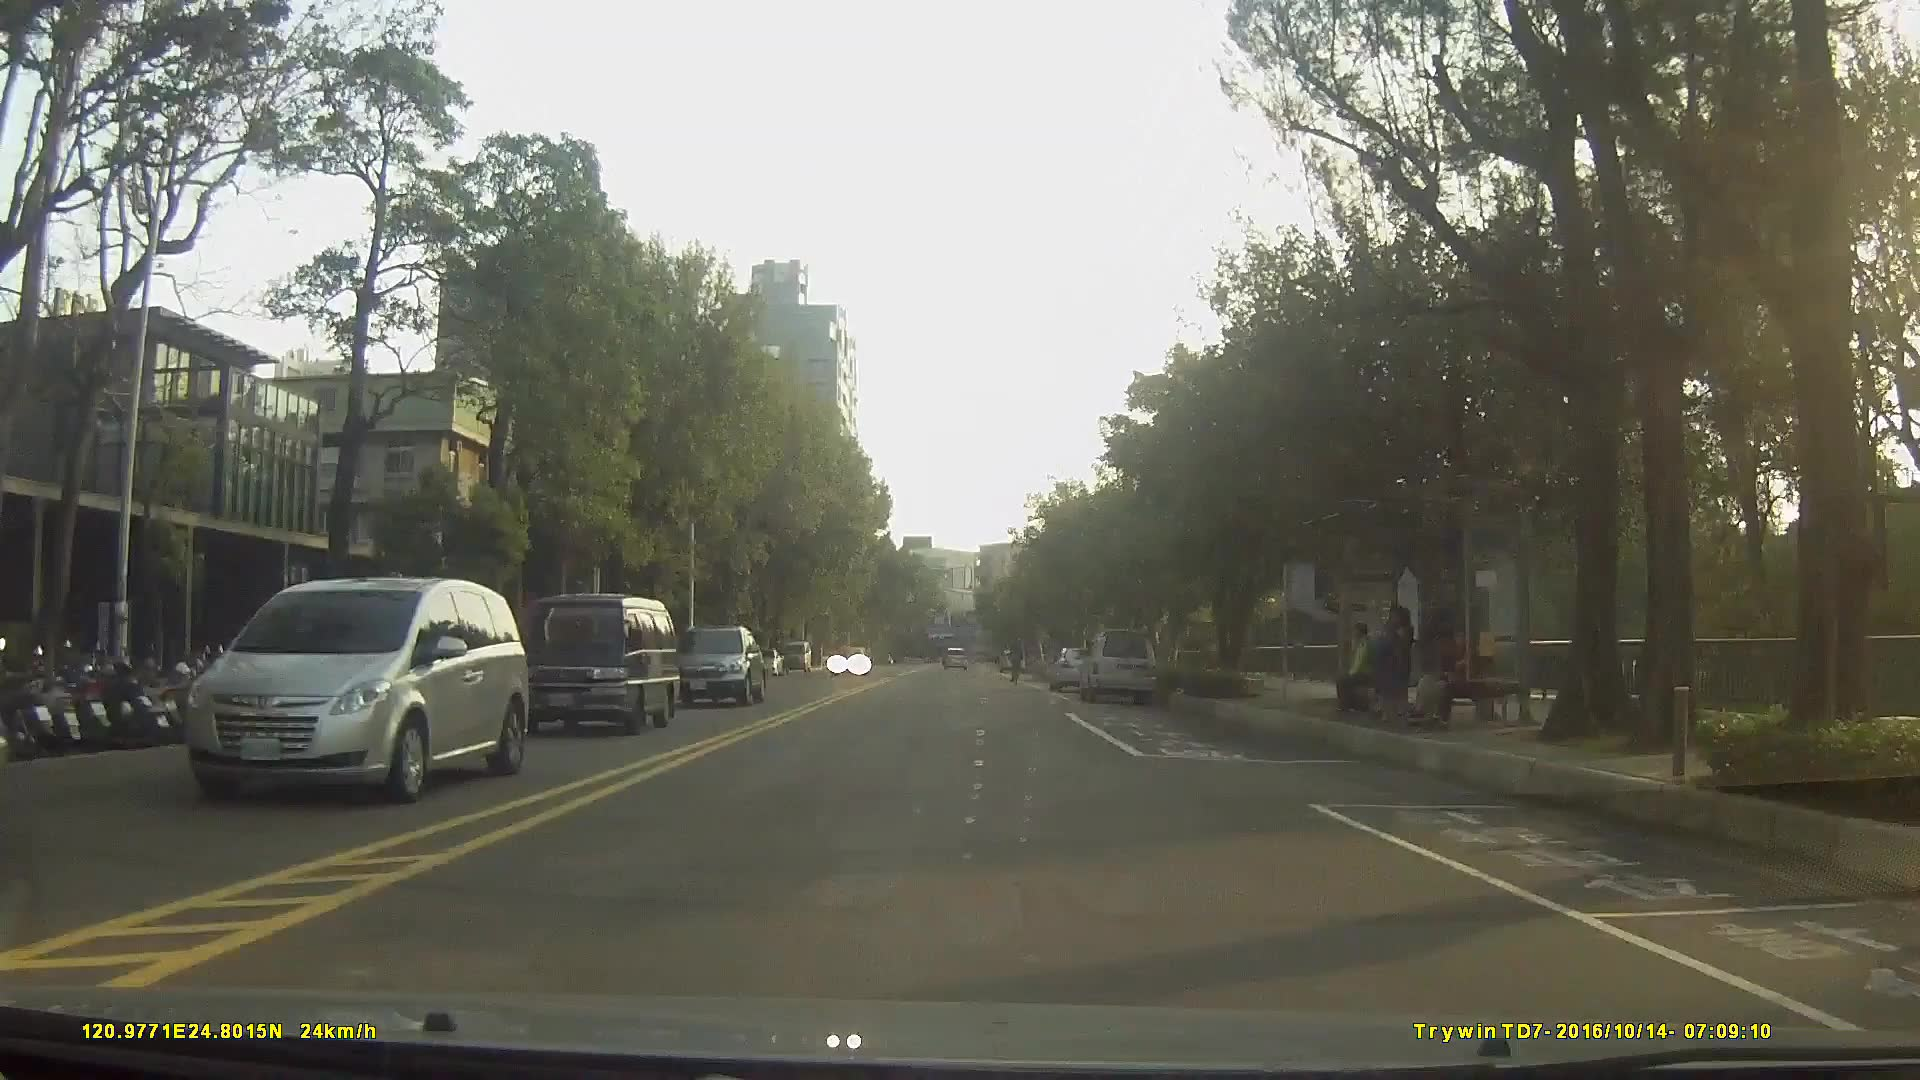pedestrian: (1367, 600, 1419, 725), (1409, 623, 1455, 731), (1334, 619, 1379, 714)
rider: (1007, 632, 1027, 688)
vehicle: (185, 571, 525, 808), (503, 588, 679, 735), (664, 622, 765, 702), (1073, 627, 1157, 703), (1050, 644, 1104, 690), (827, 645, 871, 678), (779, 638, 813, 672), (939, 641, 967, 669)
